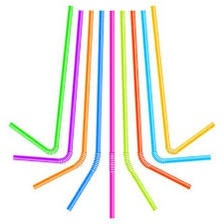drinking_straw: (148, 3, 218, 157), (7, 2, 75, 158), (106, 6, 117, 222)
